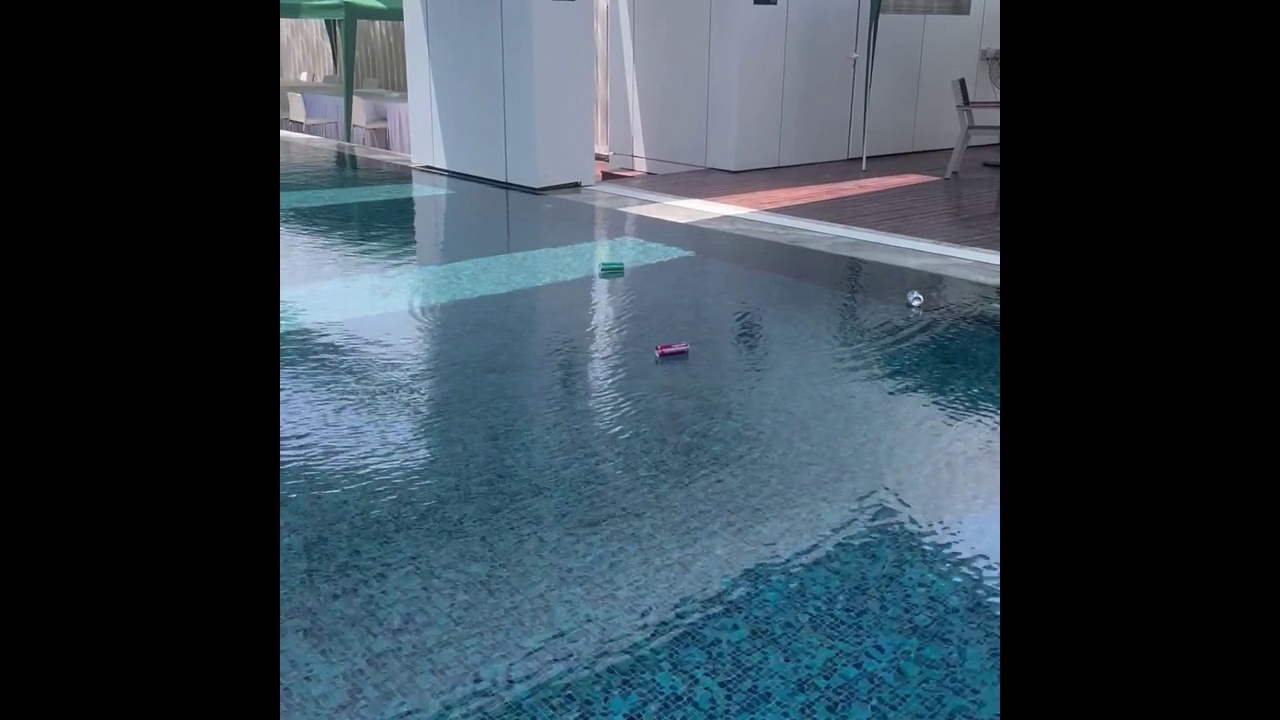debris: (651, 338, 695, 365), (595, 257, 628, 279), (903, 289, 926, 310)
